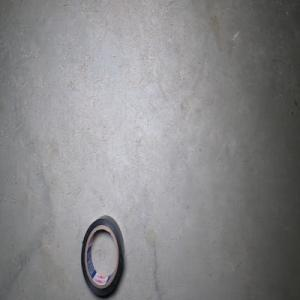Tape: (81, 215, 124, 298)
